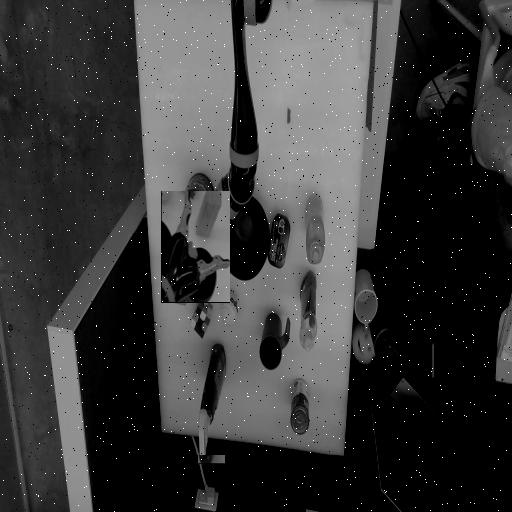bowl: (218, 194, 268, 279)
cleanser: (300, 271, 316, 351)
coffee_can: (176, 174, 214, 245)
jaco: (162, 191, 230, 303)
meat_can: (267, 214, 289, 268)
mug: (259, 313, 289, 369)
mustard_bottle: (305, 220, 324, 239)
rubik: (190, 305, 212, 327)
soup_can: (290, 397, 308, 415)
tennis_ball: (221, 294, 238, 324)
windex: (198, 345, 225, 463)
wooden_block: (171, 258, 195, 304)
workspace: (135, 3, 372, 455)
